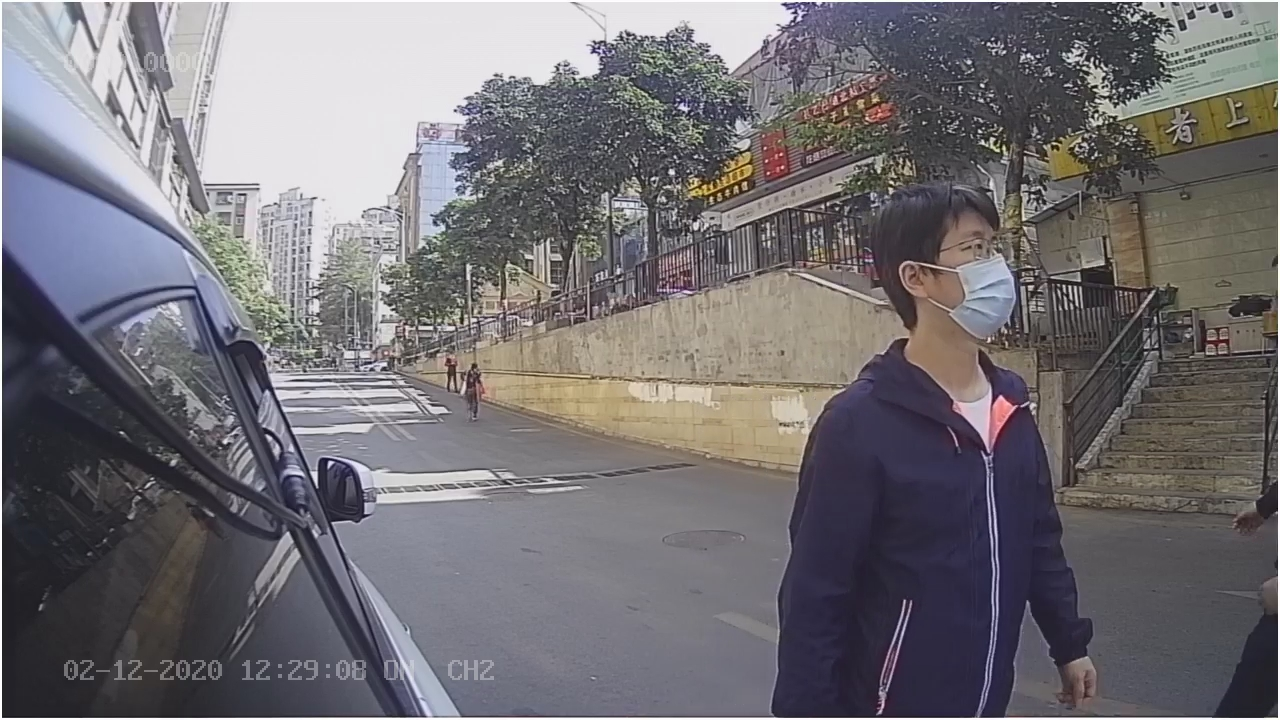person: (783, 177, 1071, 569)
